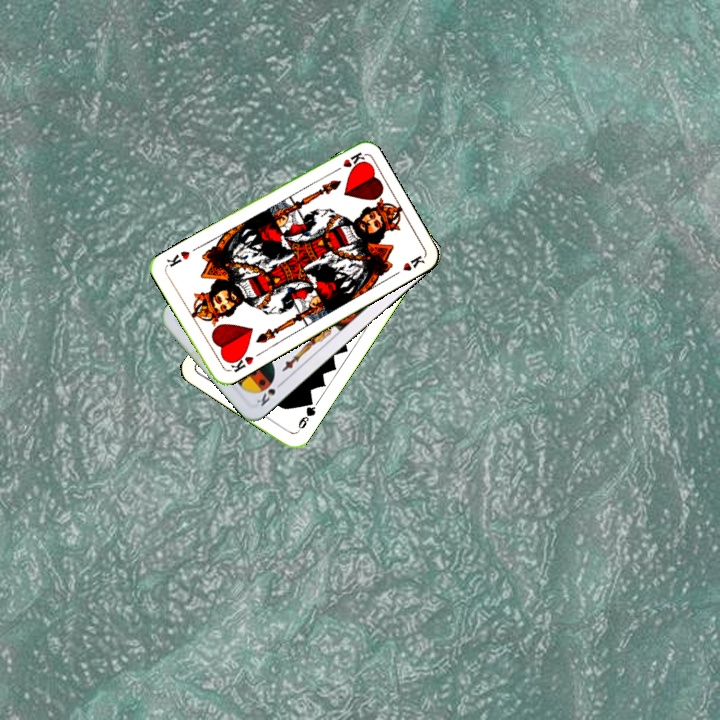G9: (293, 396, 318, 435)
HK: (328, 148, 366, 176), (224, 348, 256, 375)
SK: (252, 377, 286, 409)
